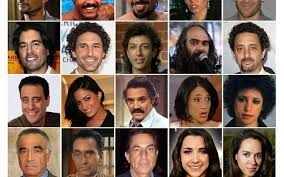middle_eastern_Female: (178, 134, 212, 175), (231, 88, 265, 122), (236, 137, 264, 174), (70, 84, 104, 113), (186, 87, 213, 123)
